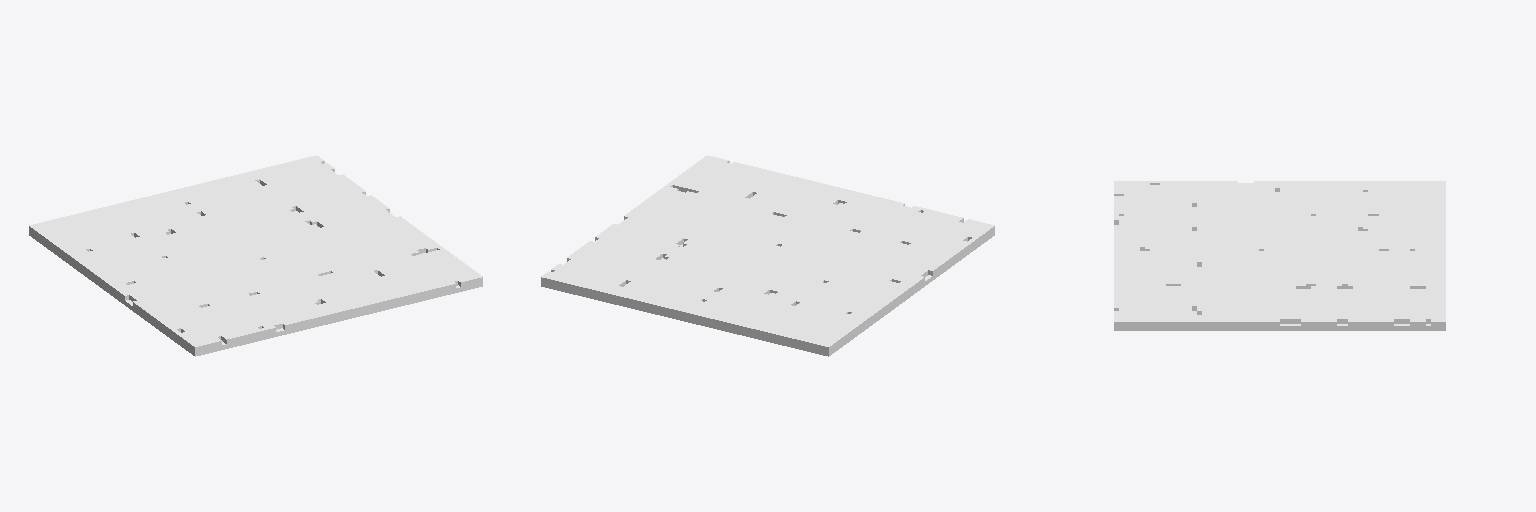
File: Tutorialmap_V2_unfinished-37.obj
3 views of the same model, side by side, from view 1: azimuth 30°, elevation 25°; view 2: azimuth 150°, elevation 25°; view 3: azimuth 270°, elevation 25° (orthographic).
Parts seen in each view (by area): view 1: object 1; view 2: object 1; view 3: object 1.
Boxes of the visible parts, x1,y1,x2,y2 form: object 1: [29, 155, 482, 356]; object 1: [541, 155, 994, 356]; object 1: [1114, 181, 1445, 330].
Bounding box in the file's own units: 6.4 × 0.2 × 6.4.